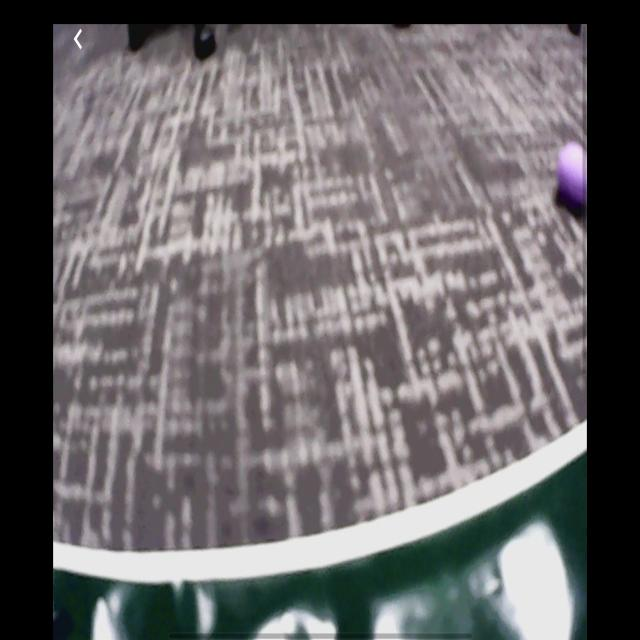ball: (557, 142, 588, 212)
